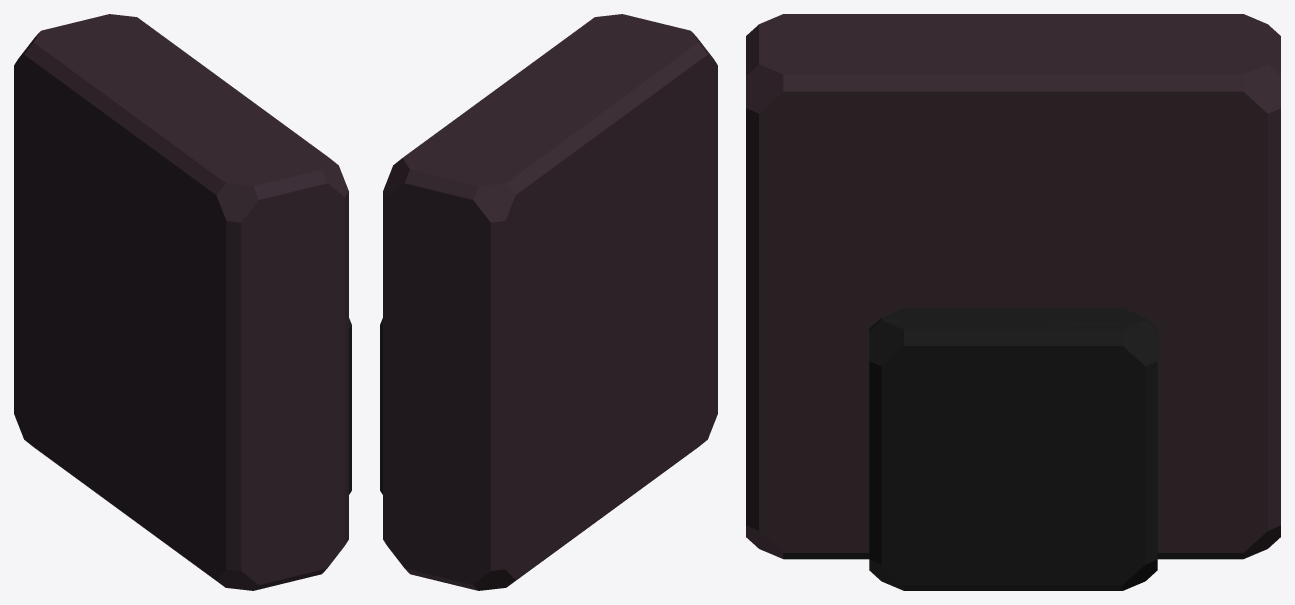
Rendered from YK_Wheel_Base_MeshCollider.obj.
3 views of the same model, side by side, from view 1: azimuth 30°, elevation 25°; view 2: azimuth 150°, elevation 25°; view 3: azimuth 270°, elevation 25° (orthographic). The views are drawn at different scales.
Parts seen in each view (by area): view 1: Cube.002; view 2: Cube.002; view 3: Cube.002.
Boxes of the visible parts, x1,y1,x2,y2 form: Cube.002: (14, 14, 351, 590); Cube.002: (380, 14, 717, 590); Cube.002: (746, 14, 1280, 590).
Bounding box in the file's own units: 0.3653 × 0.8 × 0.8.
